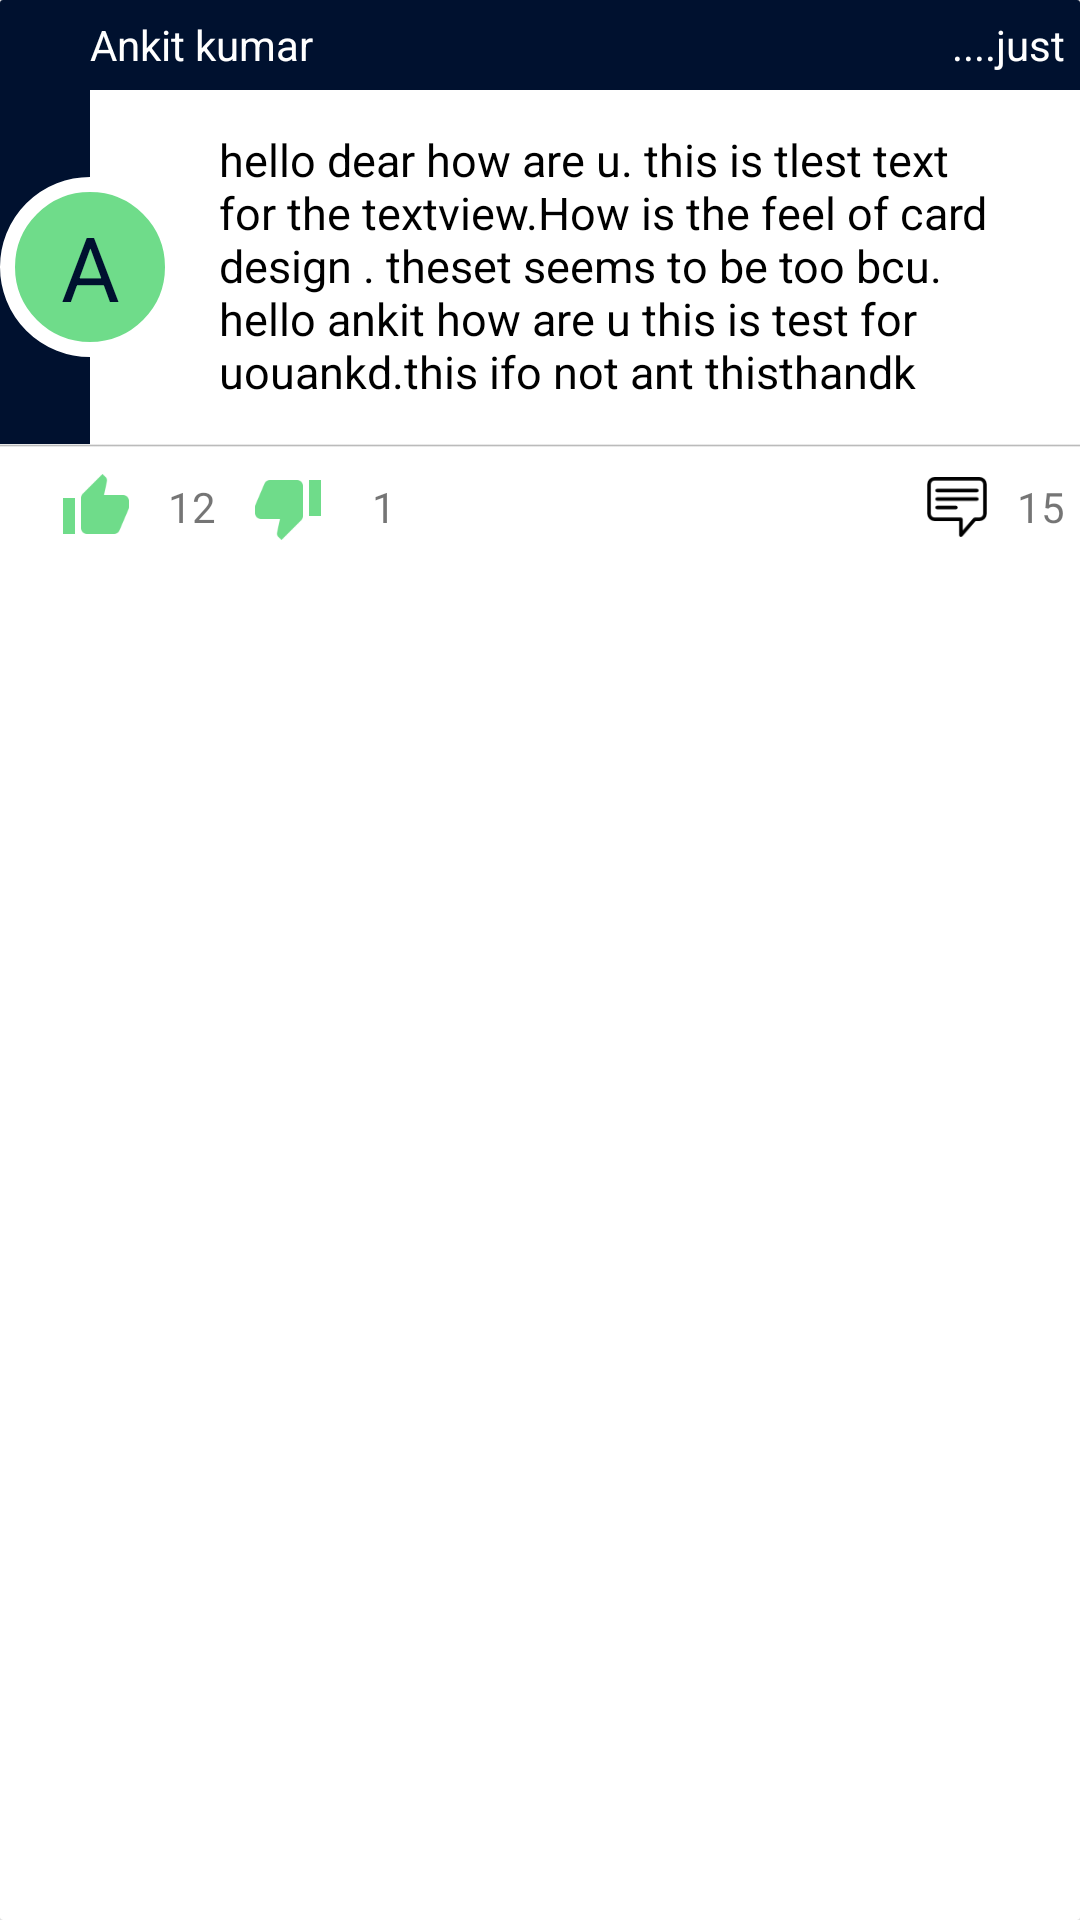

Screen size 1080 × 1920. Icon name, then its center in pixels as point (x, y):
comment: point (957, 507)
downvote: point (288, 510)
upvote: point (96, 504)
